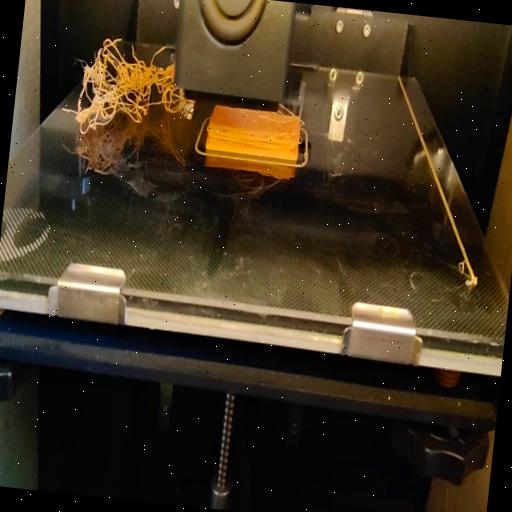spaghetti: (56, 24, 180, 146), (166, 88, 194, 116)
